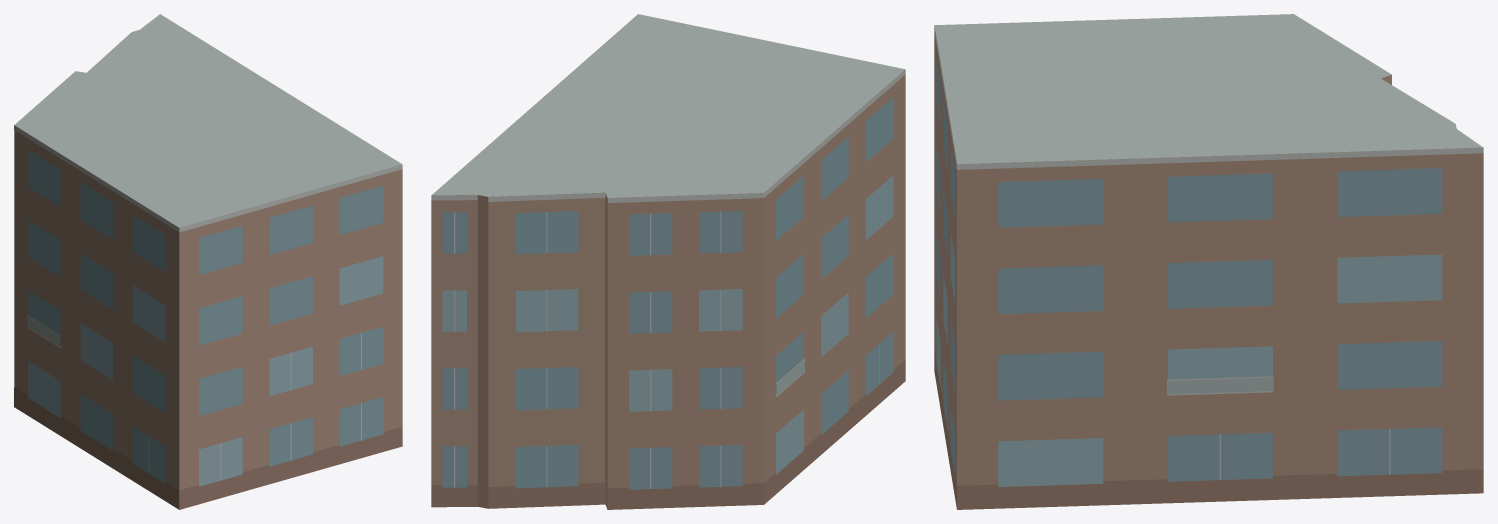
Rendered from survey-upis-32698934.glb.
3 renders of one model, left to right at view 1: azimuth 30°, elevation 25°; view 2: azimuth 150°, elevation 25°; view 3: azimuth 270°, elevation 25°, orthographic. The views are drawn at different scales.
Parts seen in each view (by area): view 1: survey-upis-32698934.tmp; view 2: survey-upis-32698934.tmp; view 3: survey-upis-32698934.tmp.
Boxes of the visible parts, bbox=[...] form: survey-upis-32698934.tmp: bbox=[14, 14, 402, 509]; survey-upis-32698934.tmp: bbox=[431, 14, 905, 509]; survey-upis-32698934.tmp: bbox=[934, 14, 1483, 509].
Size of the model in its own units: 13.8 by 14.8 by 21.32.
